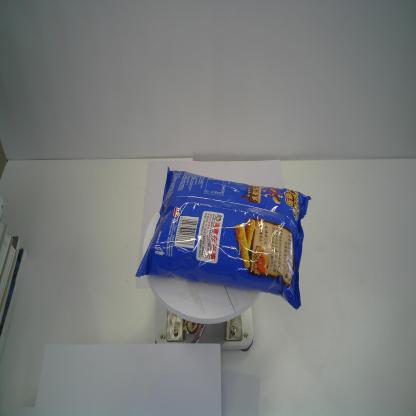Puffed Food: (134, 164, 312, 313)
